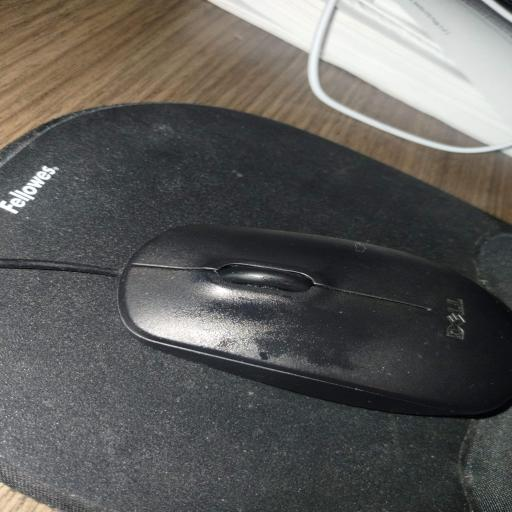mouse: (119, 226, 511, 415)
